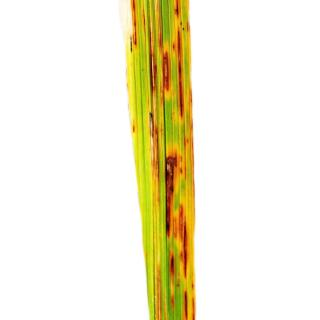Bercak-Cokelat-Sempit: (147, 125, 191, 312), (140, 5, 192, 124), (128, 0, 142, 50)
